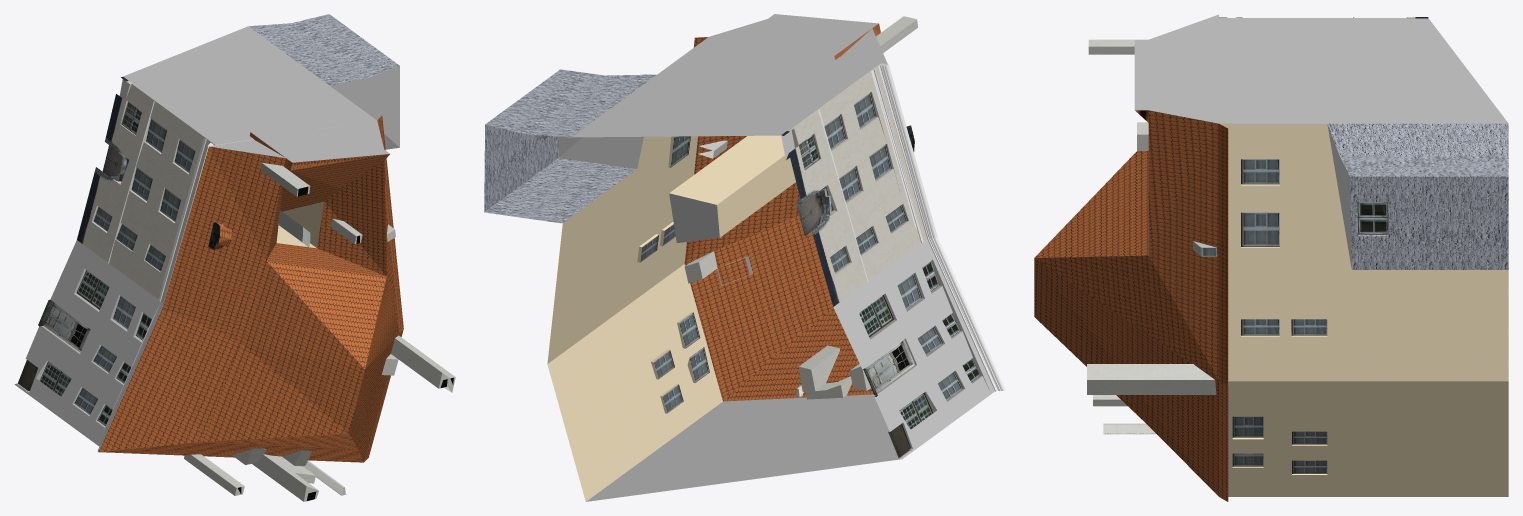
The model's file is Pikk_60-origo.obj.
3 views of the same model, side by side, from view 1: azimuth 30°, elevation 25°; view 2: azimuth 150°, elevation 25°; view 3: azimuth 270°, elevation 25° (orthographic). The views are drawn at different scales.
Visible parts, largest first — view 1: Pikk_60; view 2: Pikk_60; view 3: Pikk_60.
Part boxes in pixels (x1,y1,x2,y2): Pikk_60: (14,14,455,501); Pikk_60: (484,14,1005,501); Pikk_60: (1034,14,1508,501).
Size of the model in its own units: 25.06 by 23.5 by 25.41.
